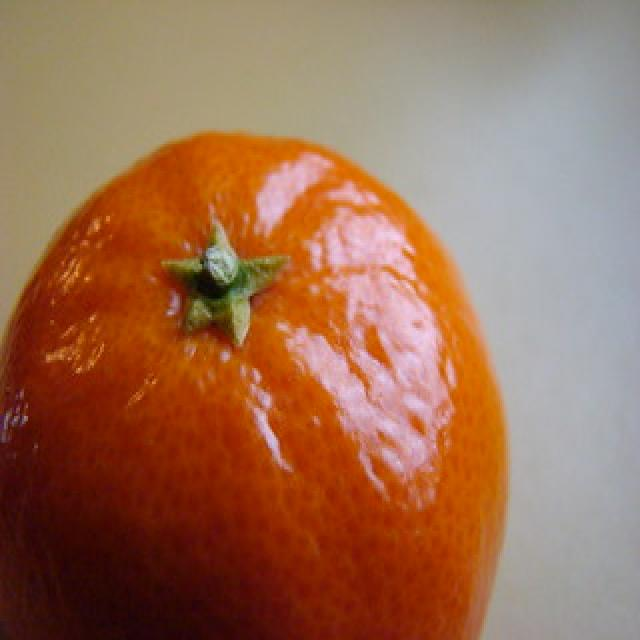Orange: (2, 132, 516, 640)
